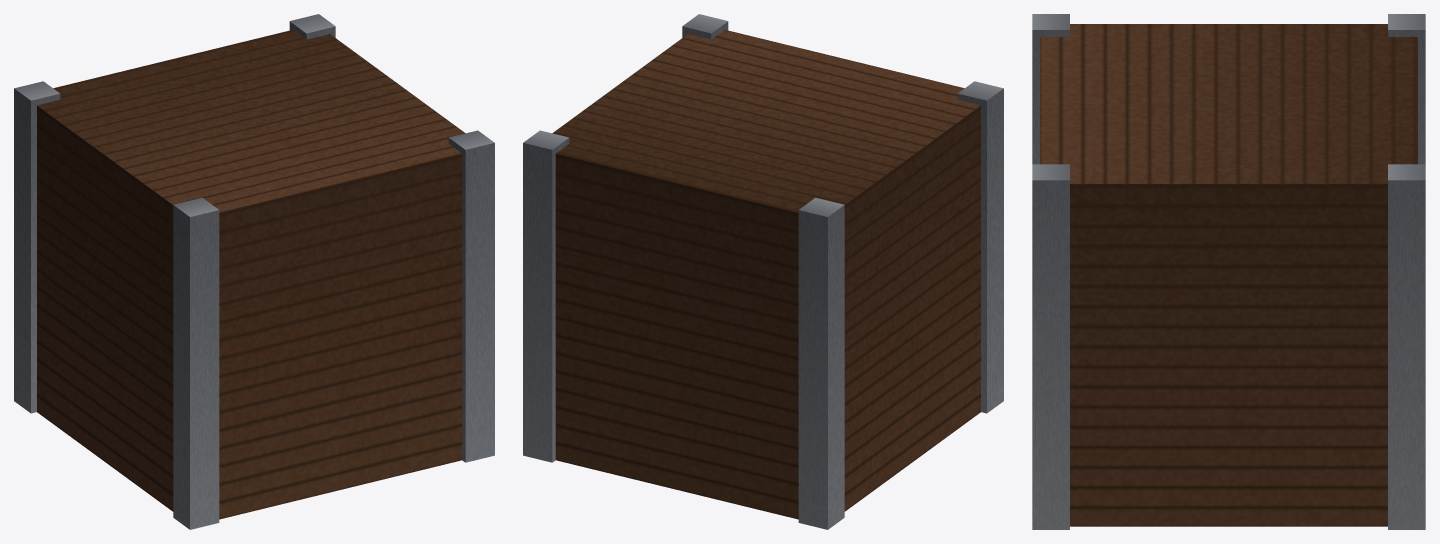
The model's file is crate_wooden.gltf.
The picture shows the model from 3 angles, left to right: view 1: azimuth 30°, elevation 25°; view 2: azimuth 150°, elevation 25°; view 3: azimuth 270°, elevation 25°; orthographic projection. The views are drawn at different scales.
Visible parts, largest first — view 1: crate_wooden; view 2: crate_wooden; view 3: crate_wooden.
Boxes of the visible parts, <box> form: crate_wooden: <box>14,14,494,529</box>; crate_wooden: <box>523,14,1003,529</box>; crate_wooden: <box>1032,14,1425,529</box>.
Bounding box in the file's own units: 1.04 × 1.02 × 1.04.
1 material, 1 textured.
